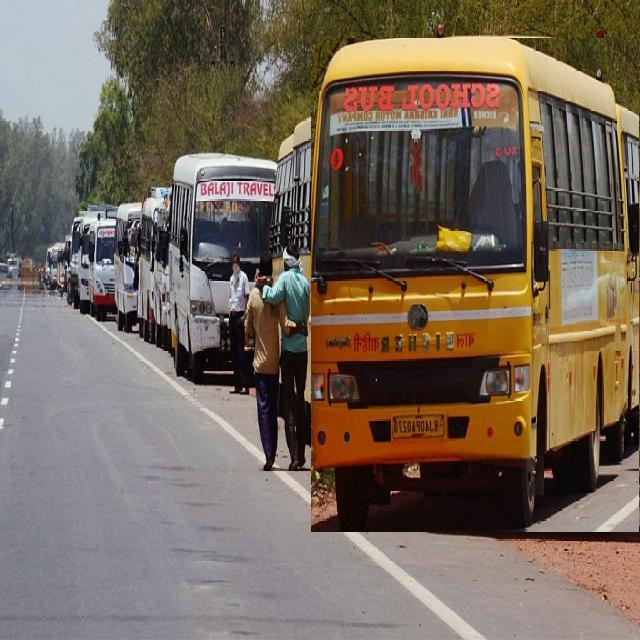bus: (311, 38, 640, 532), (169, 153, 276, 382), (89, 218, 116, 320)
